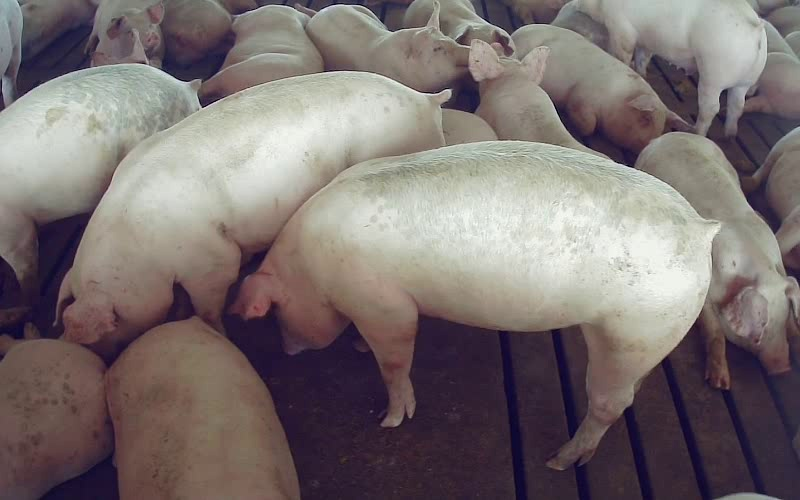pig: (57, 72, 449, 357), (0, 64, 199, 302), (636, 132, 799, 387), (106, 317, 298, 499), (552, 0, 766, 136), (511, 24, 691, 153), (0, 323, 113, 499), (469, 40, 603, 156), (306, 2, 469, 91), (199, 5, 323, 99)
